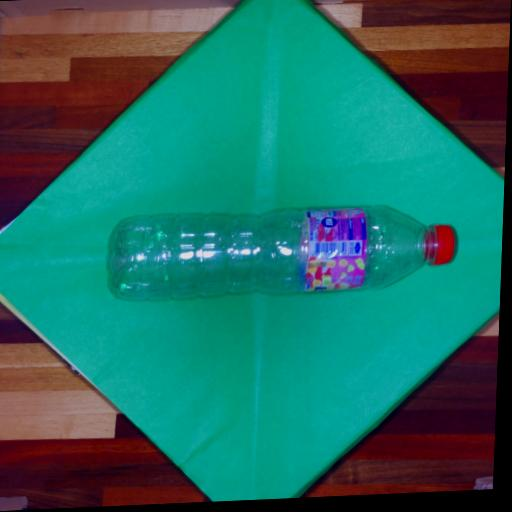bottle: (111, 206, 454, 298)
